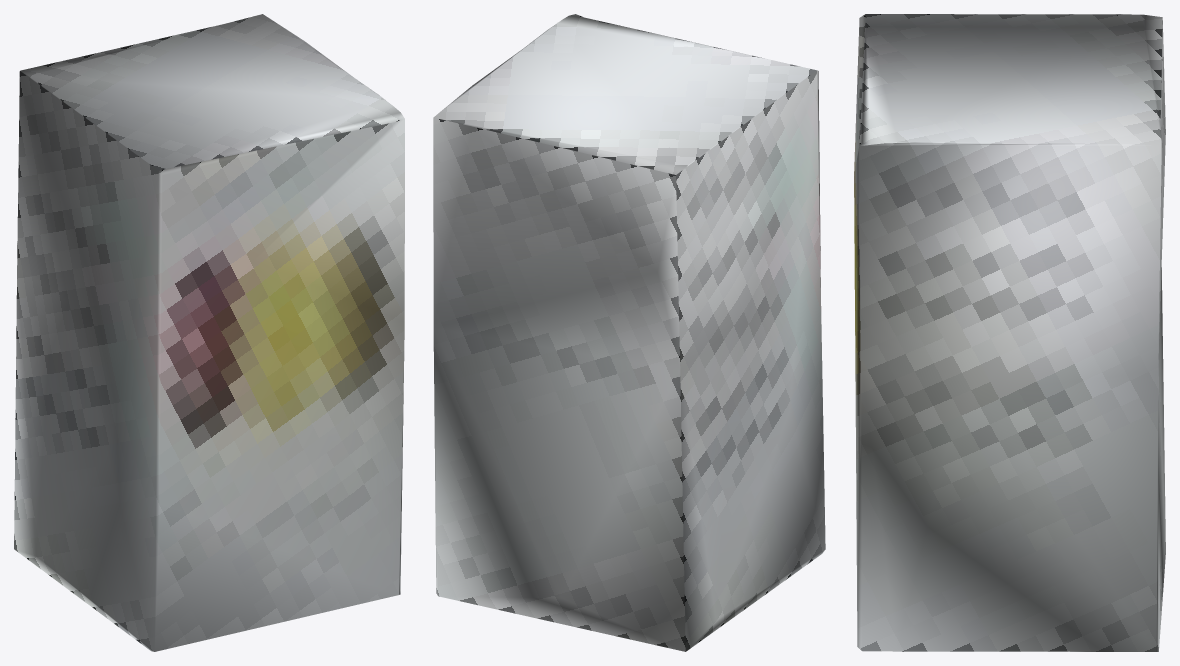
The model's file is Perricone_MD_The_Metabolic_Formula_Supplements-low.glb.
3 renders of one model, left to right at view 1: azimuth 30°, elevation 25°; view 2: azimuth 150°, elevation 25°; view 3: azimuth 270°, elevation 25°, orthographic. The views are drawn at different scales.
Parts seen in each view (by area): view 1: Perricone_MD_The_Metabolic_Formula_Supplements; view 2: Perricone_MD_The_Metabolic_Formula_Supplements; view 3: Perricone_MD_The_Metabolic_Formula_Supplements.
Boxes of the visible parts, x1=… form: Perricone_MD_The_Metabolic_Formula_Supplements: x1=14, y1=14, x2=404, y2=651; Perricone_MD_The_Metabolic_Formula_Supplements: x1=433, y1=14, x2=825, y2=651; Perricone_MD_The_Metabolic_Formula_Supplements: x1=854, y1=14, x2=1165, y2=651.
Bounding box in the file's own units: 0.0949 × 0.1673 × 0.092.
Materials: 1 (1 with a texture image).
